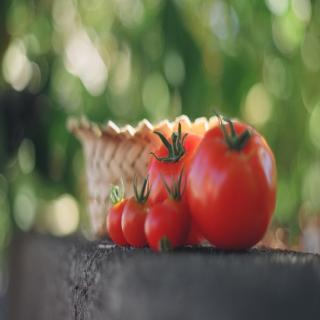tomato: (185, 118, 278, 252), (144, 123, 206, 245), (162, 164, 190, 246), (123, 175, 152, 247), (108, 176, 130, 246), (143, 202, 176, 246)
